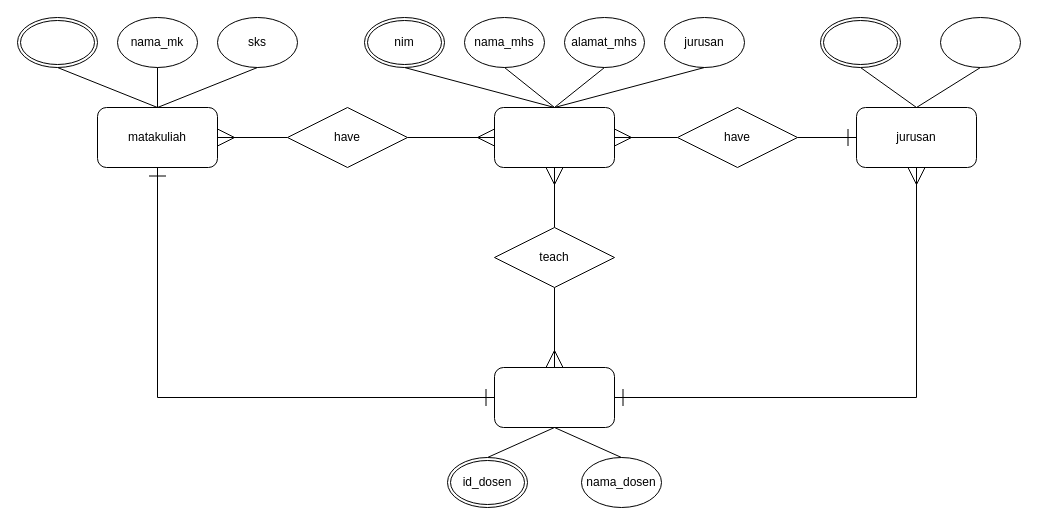
Image size: 1038x525. Some labels were removed from this diagram. The shapes that lost their labels are listed below. From the top down, each one's centre as x and y in pixels, then its label:
the point at 57,42: id_mk
the point at 860,42: id_jurusan
the point at 980,42: nama_jurusan
the point at 554,137: mahasiswa
the point at 554,397: dosen
